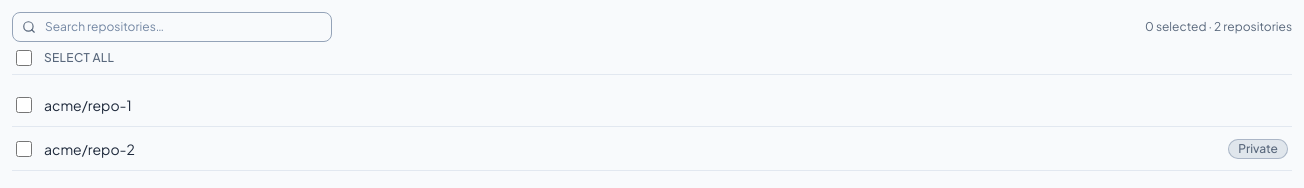
it: RepositoryPickerList › shows a no-matches message when the search finds nothing
Type "does-not-exist" into the field labelled "Search repositories" at (172, 27), box [12,12,332,42]
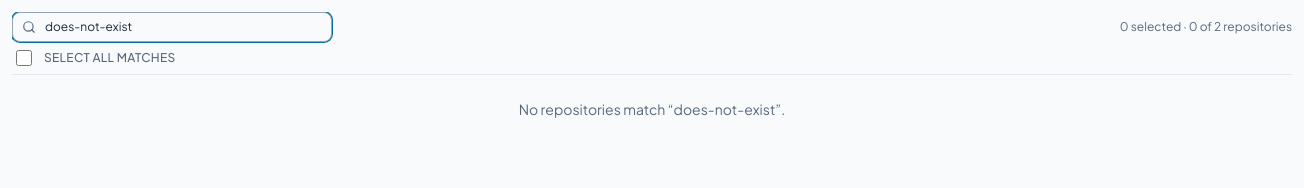
Check: the text "No repositories match “does-not-exist”." is shown, box [519,100,785,118]
